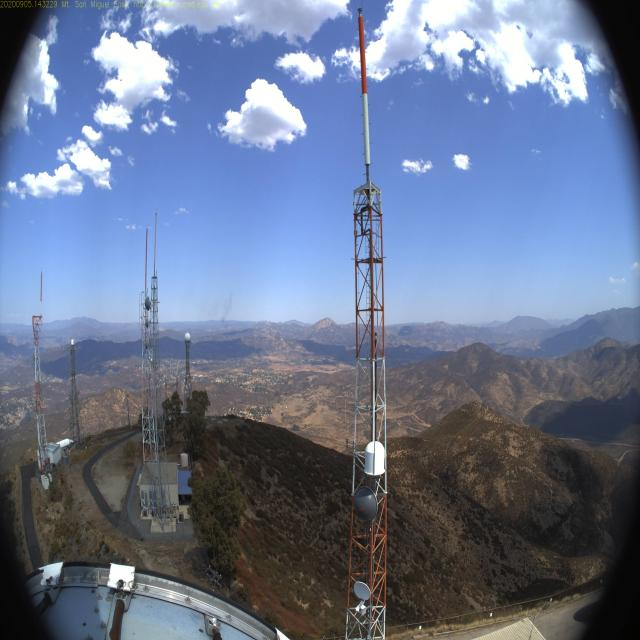smoke: (199, 290, 232, 331)
